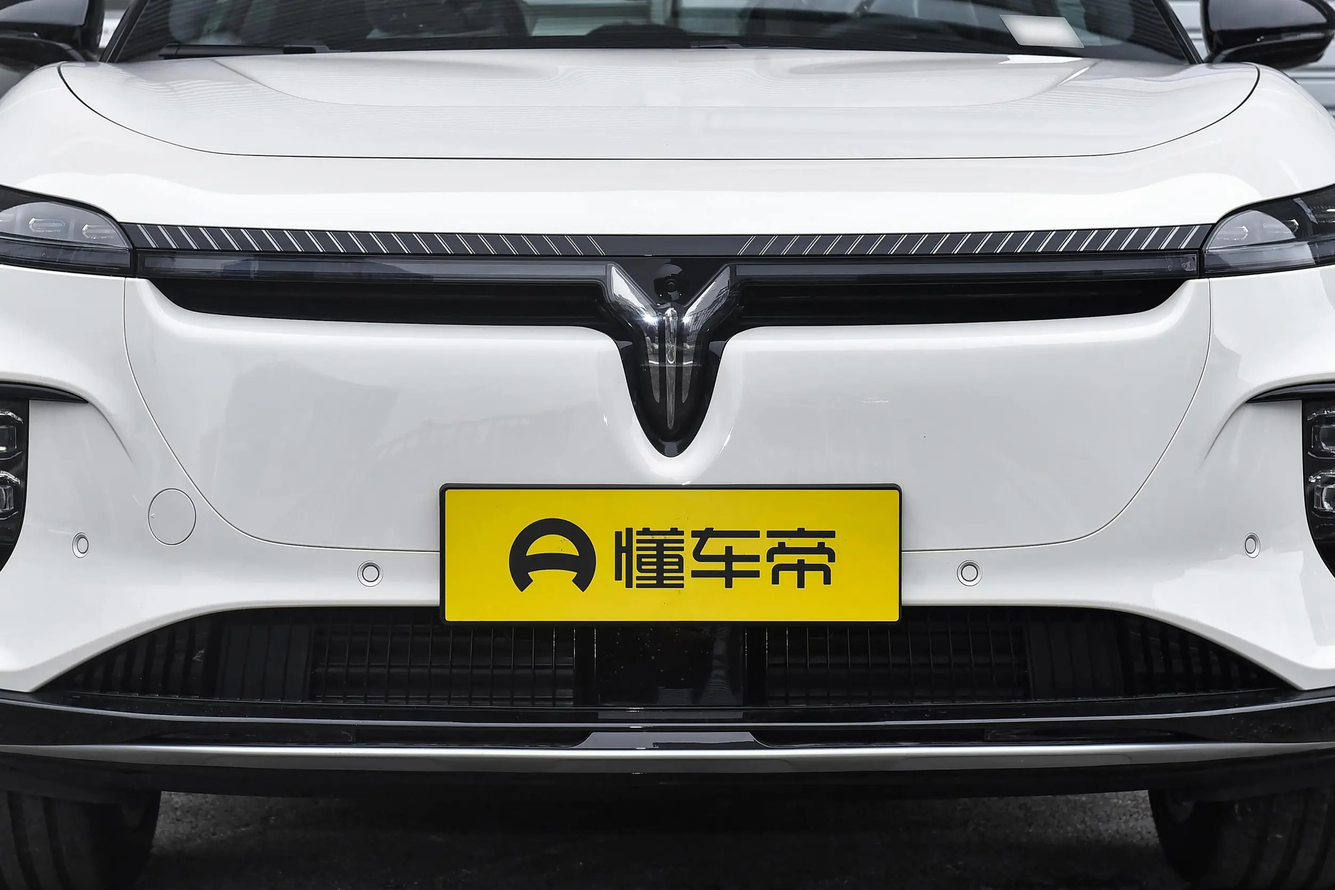VOYAH: (612, 267, 729, 427)
